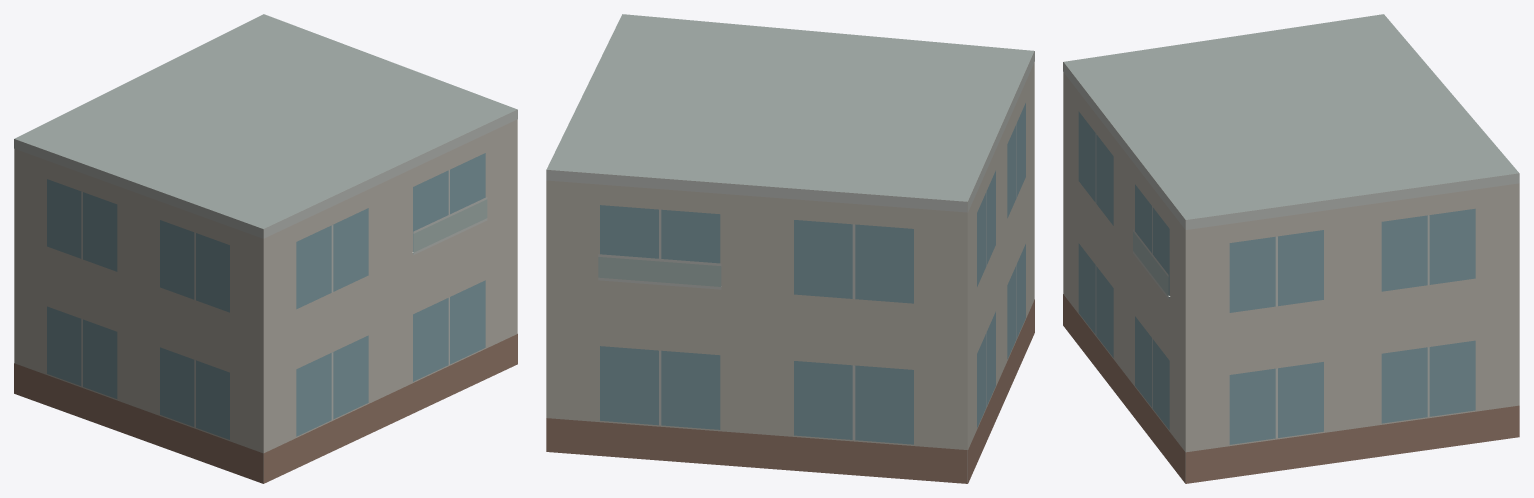
Rendered from survey-upis-33004211.glb.
The picture shows the model from 3 angles, left to right: view 1: azimuth 30°, elevation 25°; view 2: azimuth 150°, elevation 25°; view 3: azimuth 270°, elevation 25°; orthographic projection. The views are drawn at different scales.
Parts seen in each view (by area): view 1: survey-upis-33004211.tmp; view 2: survey-upis-33004211.tmp; view 3: survey-upis-33004211.tmp.
Boxes of the visible parts, x1,y1,x2,y2 form: survey-upis-33004211.tmp: (14,14,517,483); survey-upis-33004211.tmp: (546,14,1034,483); survey-upis-33004211.tmp: (1063,14,1519,483).
Size of the model in its own units: 10.73 by 6.4 by 10.04.
